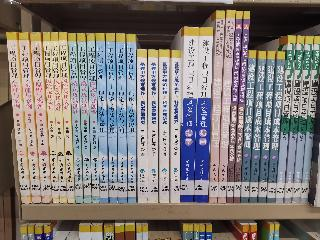book-spine: (6, 32, 33, 204), (17, 31, 42, 204), (29, 31, 53, 204), (284, 37, 307, 204), (178, 26, 199, 205), (293, 36, 315, 203), (232, 11, 251, 204), (193, 27, 213, 203), (218, 10, 235, 205), (208, 10, 225, 204), (49, 31, 68, 203), (75, 33, 94, 203), (276, 34, 295, 203), (301, 36, 320, 203), (266, 52, 287, 203), (57, 32, 75, 204), (226, 11, 242, 204), (42, 32, 60, 203), (248, 51, 268, 204), (240, 50, 258, 204), (67, 32, 83, 204), (259, 52, 276, 204), (95, 33, 110, 203), (85, 33, 99, 204), (106, 33, 118, 204), (126, 34, 138, 203), (136, 49, 149, 204), (116, 33, 127, 203), (158, 49, 170, 203), (148, 50, 160, 203), (171, 49, 182, 204)
